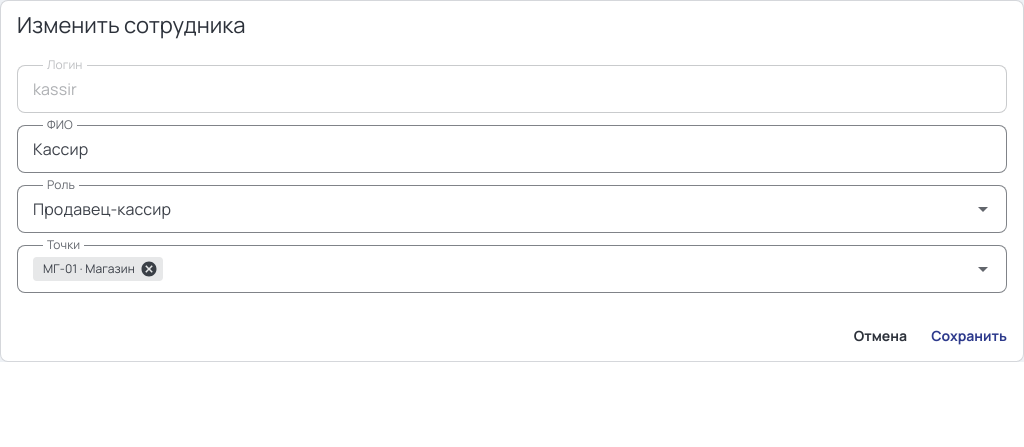
UserFormDialog › показывает конфликт версий, не закрываясь
The width and height of the screenshot is (1024, 447).
Replace the text in the field labelled "ФИО" with "Кассир Иванова" at (512, 149), box x1=17 y1=125 x2=1007 y2=173
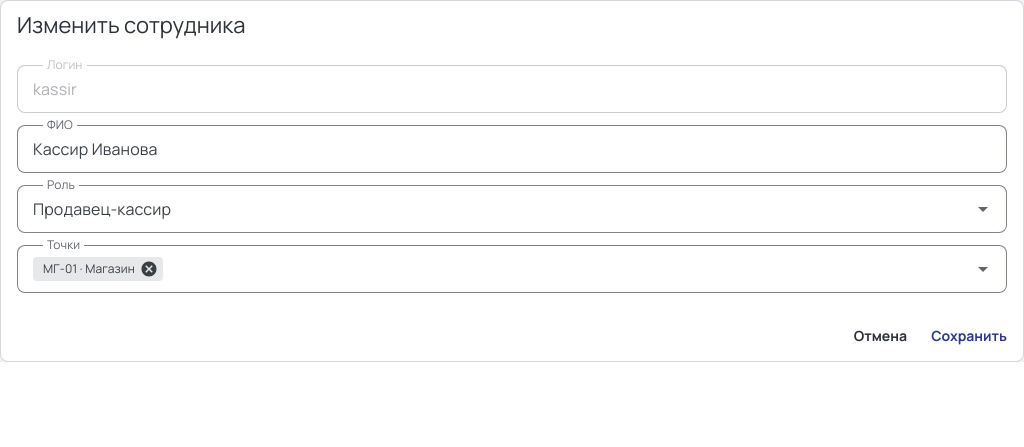
Submit the form
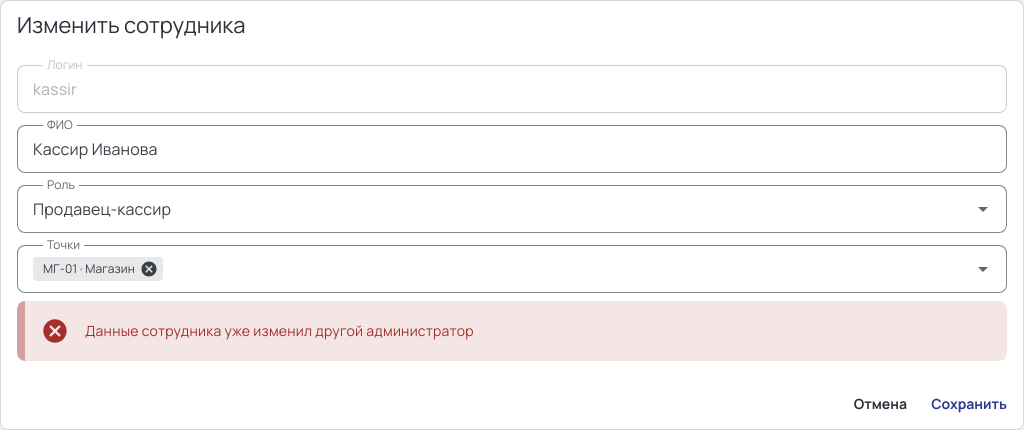
expect the text "Данные сотрудника уже изменил другой администратор" is shown: met, box x1=85 y1=321 x2=474 y2=340
